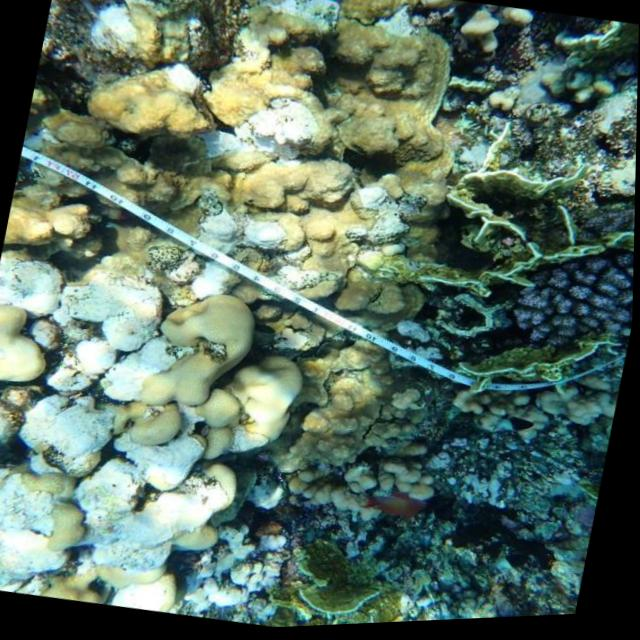Bleached Coral: (0, 237, 180, 419), (65, 433, 255, 589), (155, 187, 300, 322), (167, 508, 324, 627), (0, 377, 140, 495), (0, 468, 91, 600), (208, 88, 323, 171), (340, 181, 426, 256), (75, 0, 151, 61), (155, 54, 212, 106)
